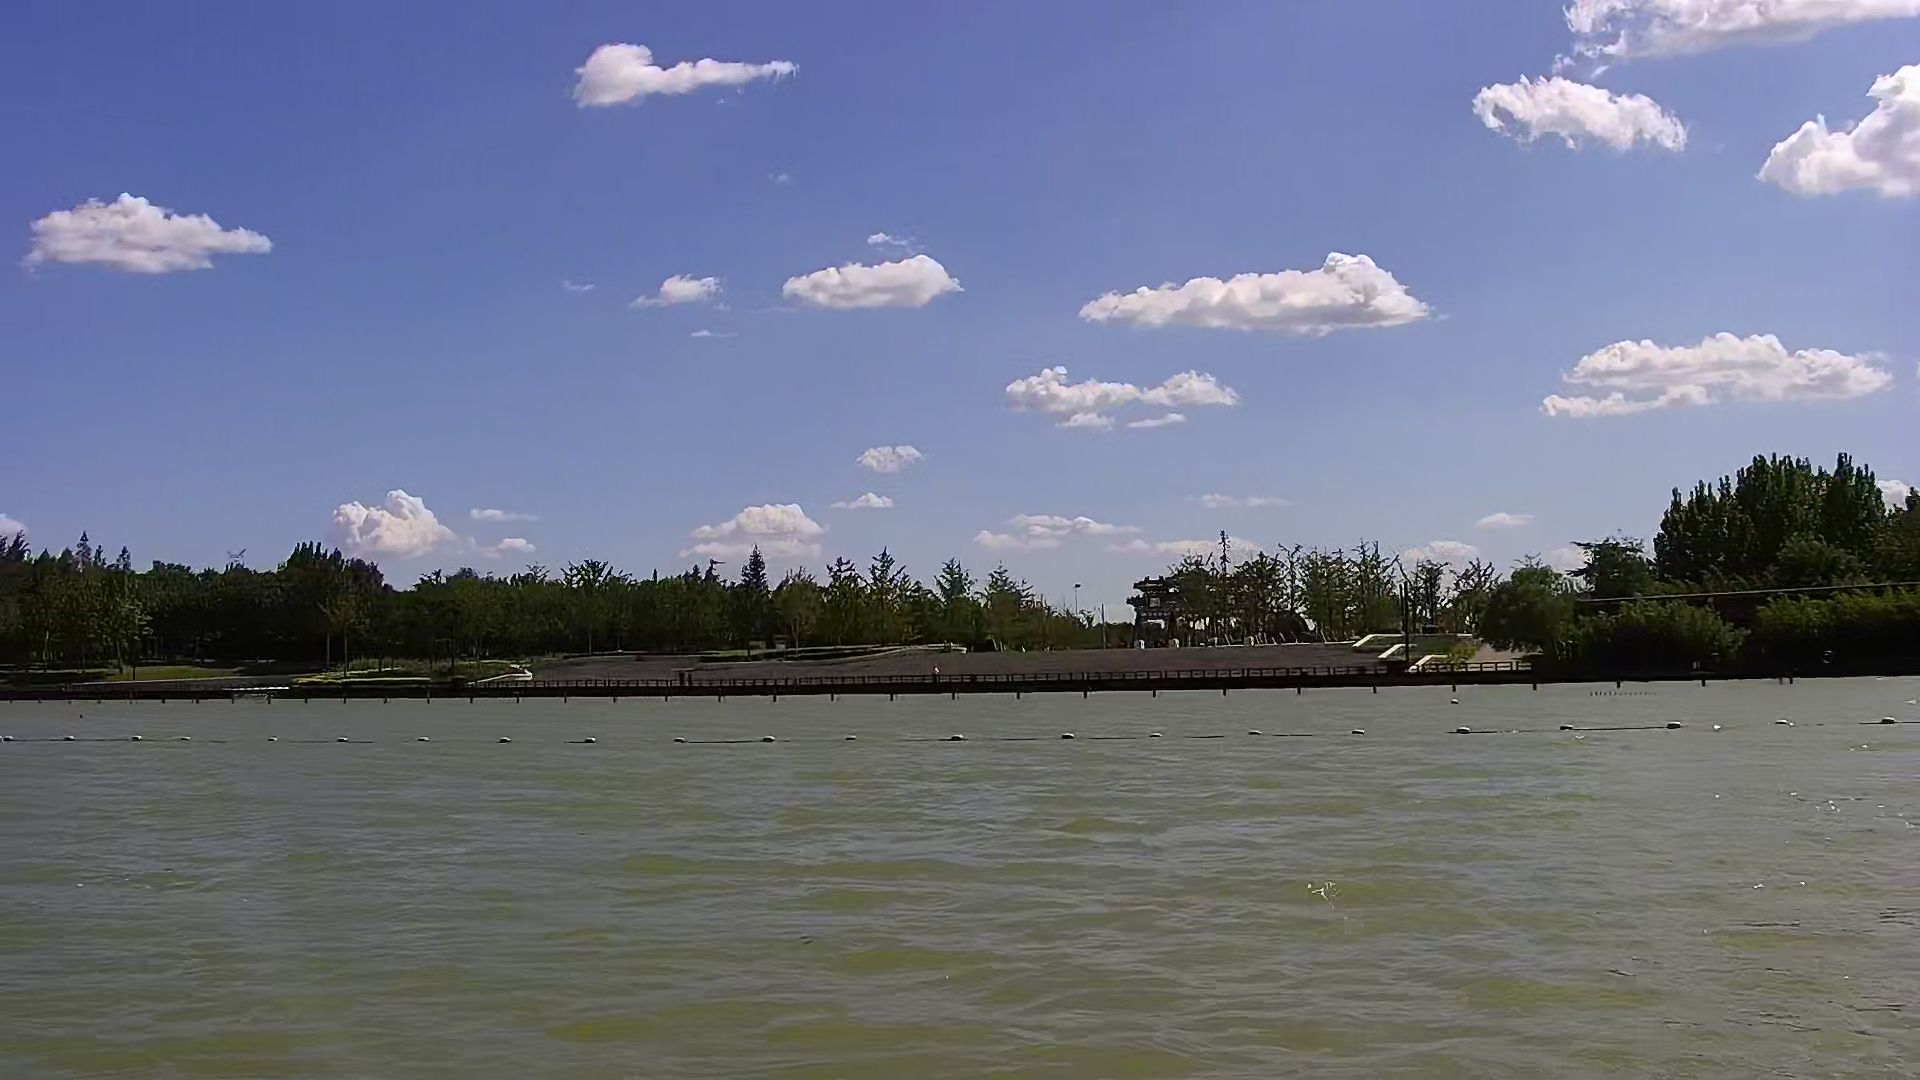ball: (1451, 717, 1480, 742), (1662, 713, 1695, 735), (944, 725, 967, 745), (1055, 727, 1081, 742), (579, 731, 597, 752), (495, 732, 518, 746)
harbor: (429, 645, 1552, 694)
